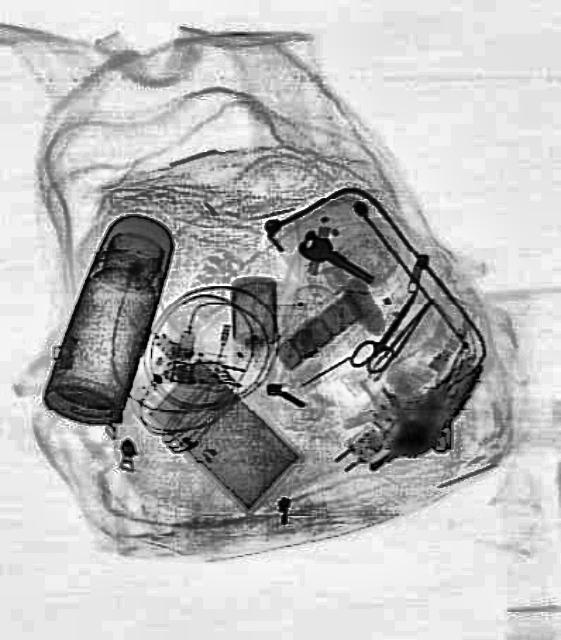Scissors: (344, 283, 426, 382)
